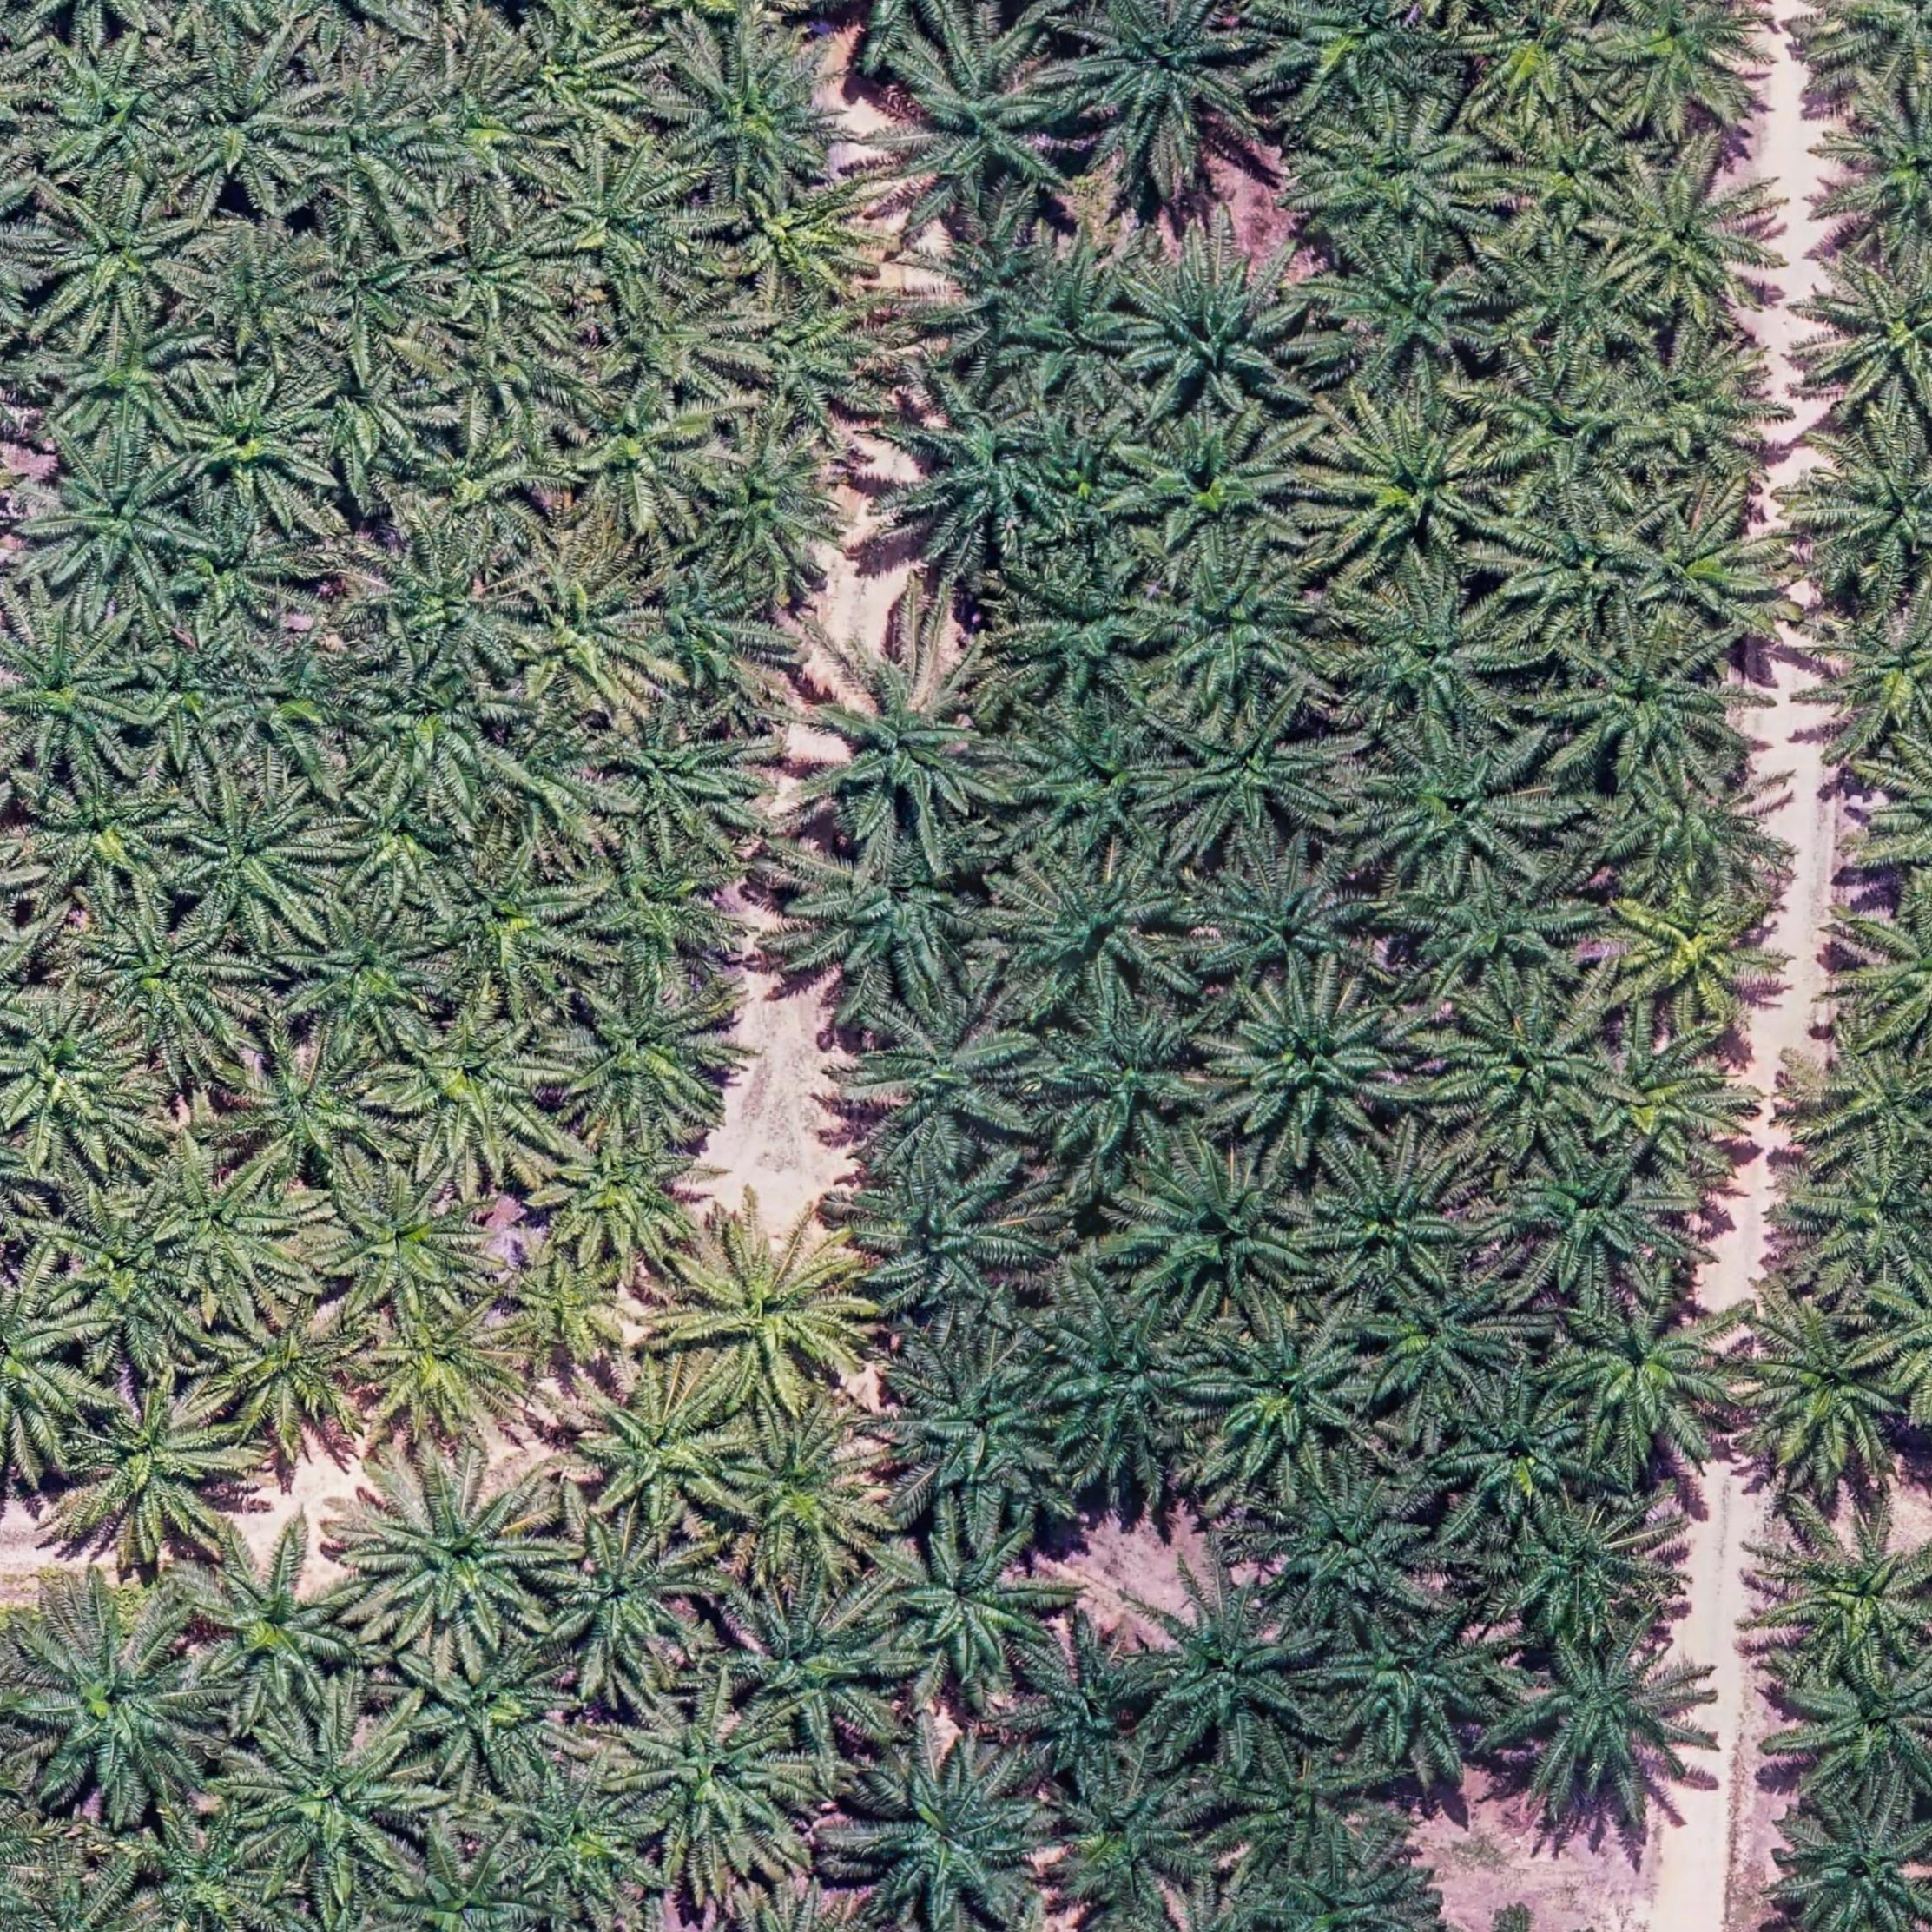palmtree: (787, 635, 1010, 853), (12, 1592, 226, 1812), (842, 1732, 1062, 1930), (347, 1460, 564, 1656), (665, 1215, 879, 1414), (1054, 0, 1277, 184), (1205, 971, 1417, 1164), (1497, 1629, 1714, 1817), (881, 21, 1081, 225), (784, 830, 1001, 1014), (617, 1688, 824, 1881), (1123, 1578, 1327, 1771), (1350, 724, 1562, 904), (1026, 1284, 1219, 1477), (1017, 996, 1219, 1180), (855, 982, 1046, 1175), (655, 25, 855, 209), (1118, 1146, 1323, 1325), (188, 1530, 380, 1720), (237, 1706, 433, 1891), (1311, 402, 1511, 584), (1113, 239, 1313, 421), (881, 1339, 1072, 1529), (1292, 103, 1499, 276), (892, 373, 1079, 564), (1543, 1290, 1743, 1468), (58, 1375, 246, 1564), (855, 1152, 1051, 1330), (874, 1516, 1069, 1695), (1543, 625, 1741, 800), (994, 856, 1194, 1028), (1428, 980, 1622, 1155), (718, 1405, 904, 1587), (563, 1364, 754, 1541), (1734, 1297, 1913, 1484), (1192, 1309, 1384, 1484), (538, 1511, 729, 1686), (1599, 154, 1790, 329), (1146, 543, 1341, 715), (375, 1001, 566, 1175), (724, 1583, 911, 1759), (1330, 571, 1527, 738), (317, 1164, 506, 1332), (1500, 1129, 1690, 1297), (1304, 1136, 1490, 1306), (1318, 1605, 1507, 1771), (531, 1115, 718, 1281), (1000, 704, 1189, 869), (1118, 412, 1311, 573), (501, 540, 671, 722), (1037, 1757, 1219, 1927), (1261, 1470, 1445, 1638), (552, 975, 738, 1141), (1161, 694, 1348, 858), (1316, 239, 1502, 400), (571, 824, 752, 989), (1605, 870, 1787, 1033), (407, 1635, 591, 1796), (688, 426, 860, 598), (42, 1189, 209, 1366), (347, 533, 533, 690), (993, 242, 1159, 418), (345, 651, 520, 817), (550, 375, 727, 540), (1477, 357, 1654, 522), (727, 281, 906, 444), (207, 1292, 387, 1453), (356, 1293, 538, 1453), (74, 895, 251, 1058), (1396, 867, 1599, 1008), (142, 1150, 318, 1313), (1576, 1016, 1746, 1184), (165, 778, 336, 943), (996, 550, 1169, 713), (1615, 488, 1794, 646), (1591, 0, 1787, 142), (1189, 856, 1378, 1001), (1490, 1504, 1672, 1654), (428, 842, 600, 1001), (1776, 1507, 1932, 1677), (230, 1030, 400, 1185), (1350, 1272, 1523, 1424), (594, 701, 768, 853), (1603, 764, 1790, 904), (538, 147, 706, 303), (1617, 333, 1787, 485), (497, 1764, 662, 1918), (170, 44, 327, 203), (720, 165, 895, 306), (283, 901, 446, 1053), (0, 996, 150, 1161), (1215, 1741, 1389, 1882), (635, 557, 793, 713), (1007, 1637, 1166, 1790), (1435, 1382, 1594, 1536), (34, 449, 196, 600), (911, 218, 1063, 377), (501, 9, 662, 159), (1267, 0, 1465, 122), (1805, 419, 1932, 609), (39, 180, 202, 327), (292, 65, 444, 221), (433, 303, 579, 465), (1495, 499, 1660, 642), (1785, 1649, 1932, 1808), (35, 41, 193, 188), (0, 610, 143, 771), (1806, 248, 1932, 426), (1789, 1148, 1932, 1304), (1490, 237, 1658, 370), (1237, 1831, 1454, 1932), (30, 768, 189, 904), (177, 377, 327, 518), (1456, 0, 1624, 126), (48, 315, 203, 449), (1808, 591, 1932, 759), (1488, 120, 1645, 251), (600, 283, 750, 419), (292, 352, 444, 485), (1783, 1799, 1932, 1932), (221, 628, 361, 766), (0, 1276, 101, 1465), (1829, 87, 1932, 272), (432, 212, 579, 341), (186, 234, 336, 359), (409, 55, 543, 191), (476, 720, 609, 858), (494, 1244, 640, 1368), (331, 778, 467, 908), (173, 506, 311, 632), (1805, 1039, 1932, 1173), (375, 1836, 554, 1932), (140, 1817, 283, 1932), (129, 633, 260, 757), (315, 242, 444, 359), (1851, 899, 1932, 1058), (1796, 0, 1932, 94), (1852, 743, 1932, 895)
